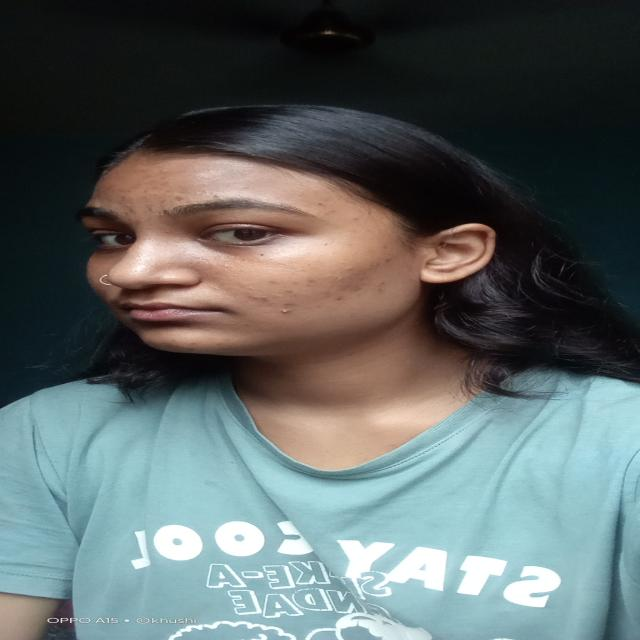Acne: (371, 281, 388, 294), (304, 278, 320, 287), (346, 286, 366, 293), (278, 307, 294, 315), (256, 296, 276, 302), (347, 215, 361, 223), (330, 296, 348, 302), (282, 302, 300, 308), (212, 192, 225, 200), (173, 194, 183, 202), (130, 208, 138, 218), (382, 258, 395, 264), (147, 204, 155, 213), (270, 279, 282, 285), (160, 175, 172, 181), (157, 198, 169, 204), (144, 188, 155, 194), (117, 188, 133, 192), (316, 202, 326, 208), (342, 266, 357, 270), (188, 342, 203, 346), (238, 184, 252, 188), (286, 288, 293, 295), (150, 185, 162, 189), (136, 163, 147, 167), (162, 230, 173, 234), (120, 195, 127, 201), (164, 188, 172, 193), (161, 168, 168, 172)
